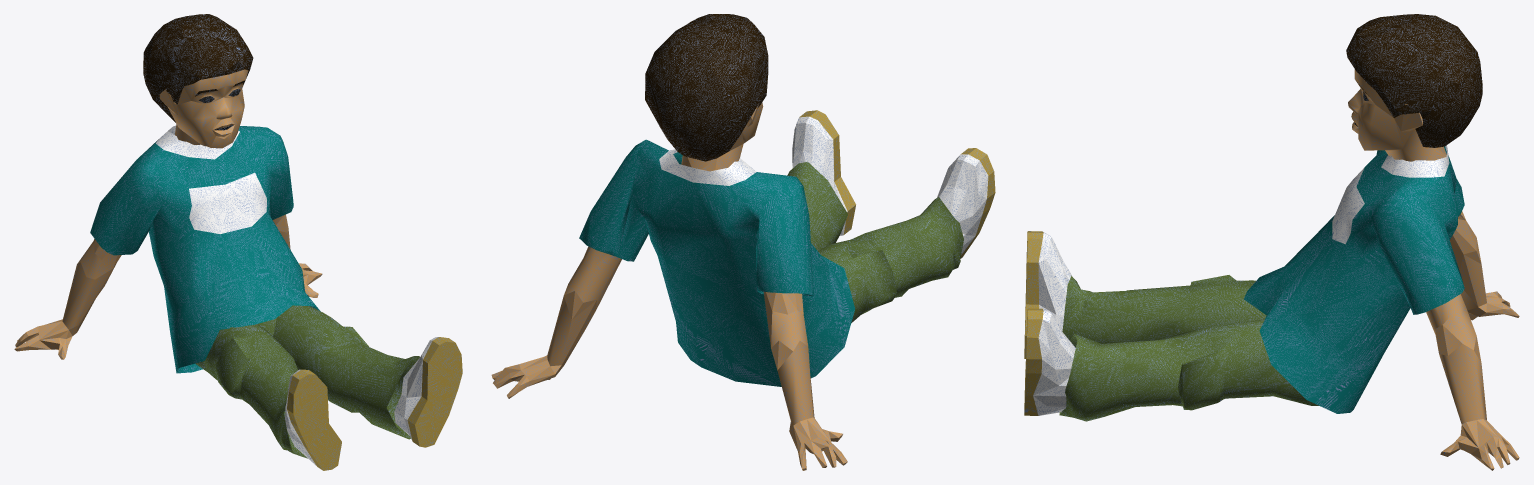
3 renders of one model, left to right at view 1: azimuth 30°, elevation 25°; view 2: azimuth 150°, elevation 25°; view 3: azimuth 270°, elevation 25°, orthographic. The views are drawn at different scales.
Parts seen in each view (by area): view 1: SketchUp (×12); view 2: SketchUp (×11); view 3: SketchUp (×12).
Part boxes in pixels (x1,y1,x2,y2): SketchUp (×12): (14, 14, 462, 470); SketchUp (×11): (491, 14, 995, 470); SketchUp (×12): (1024, 14, 1519, 470).
Bounding box in the file's own units: 22.84 × 27.78 × 23.01.
